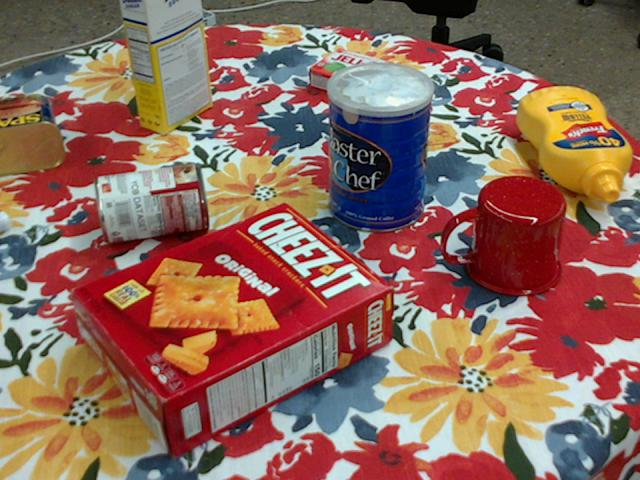cracker_box: (69, 204, 390, 459)
gelatin_box: (306, 50, 393, 104)
large_marker: (0, 211, 10, 231)
master_chef_can: (326, 62, 433, 234)
mug: (442, 175, 565, 297)
mustard_bottle: (514, 85, 629, 201)
potted_meat_can: (0, 94, 63, 175)
sugar_box: (121, 0, 211, 132)
tomato_soup_can: (92, 162, 207, 243)
tuna_fish_can: (351, 97, 424, 155)
